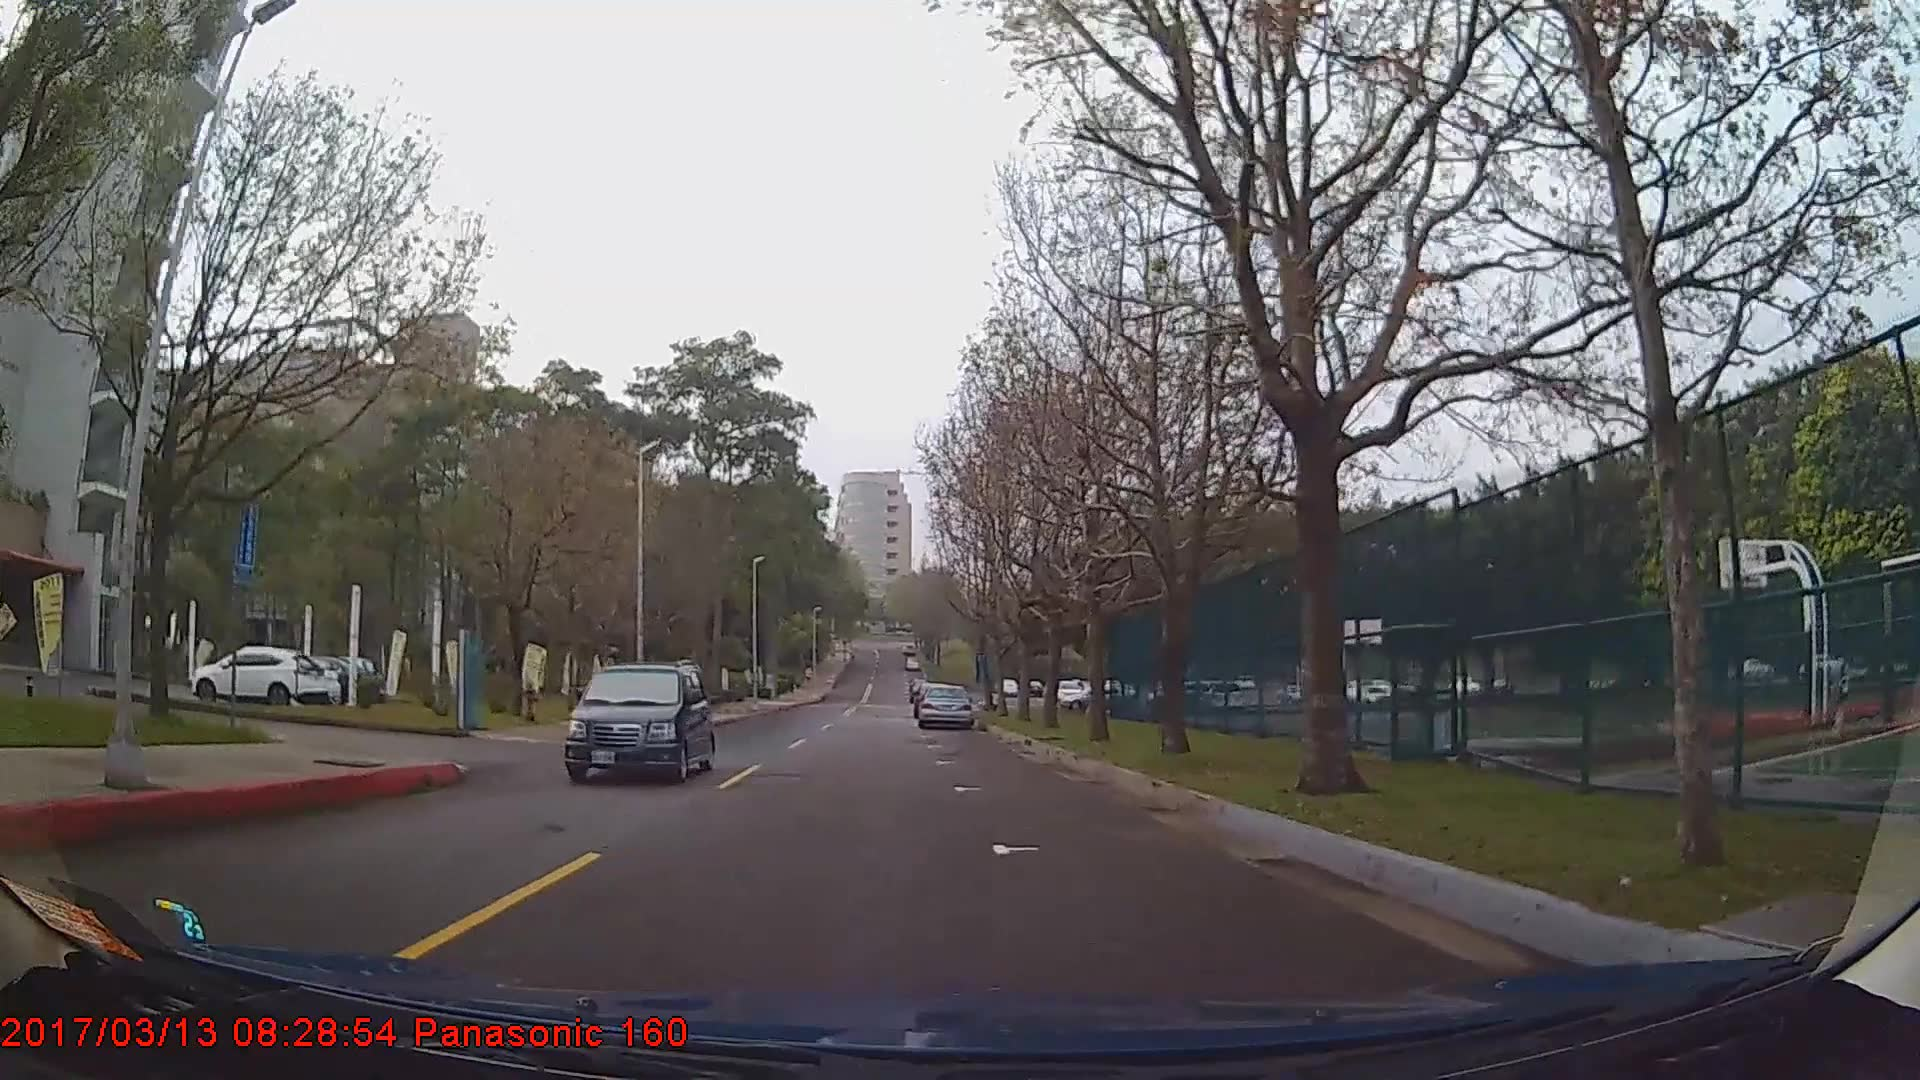vehicle: (563, 659, 712, 785), (189, 646, 324, 711), (915, 683, 972, 731)
